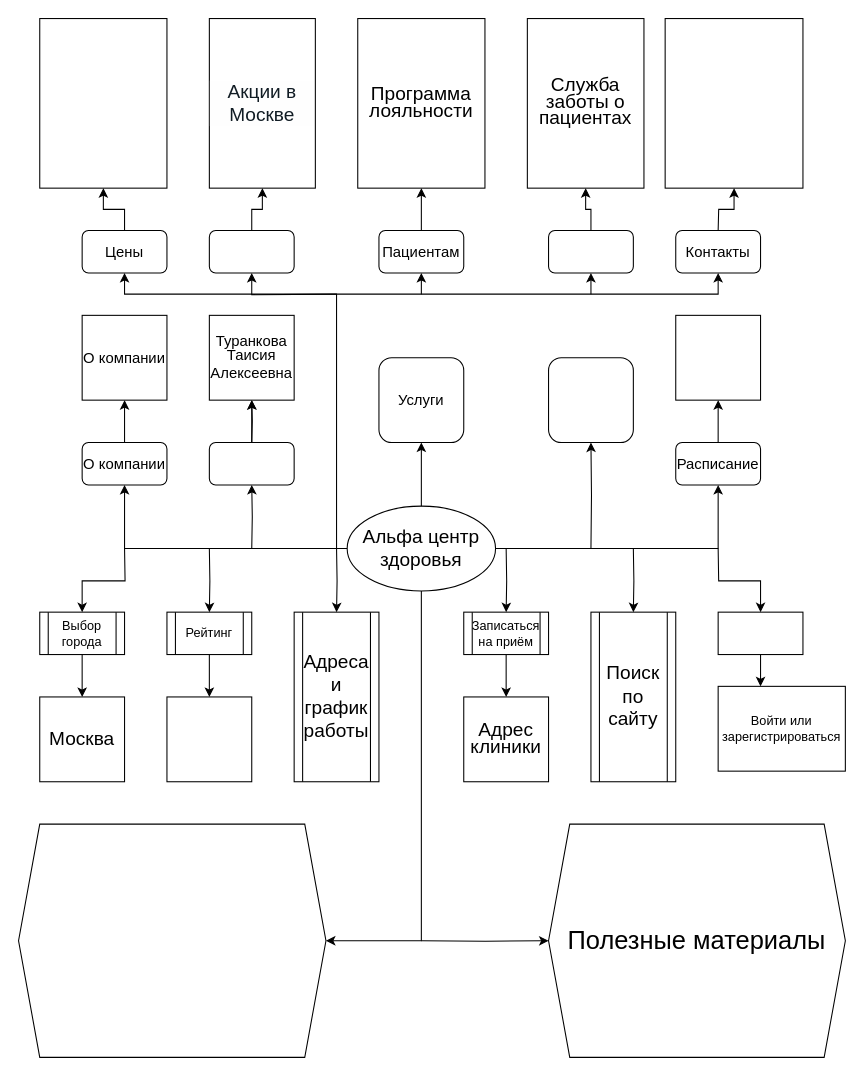
This 864x1076 diagram has some shape labels left out. Each missing label, with the centre of its shape:
Акции: (x=251, y=251)
Аллергология и иммунология - врачебные приемы: (x=103, y=102)
Врачи: (x=251, y=463)
Записаться на УЗИ: (x=718, y=357)
Клиники «Альфа-Центр Здоровья» в Москве: (x=733, y=102)
Личный кабинет: (x=760, y=633)
Направления: (x=171, y=940)
Отзывы: (x=590, y=251)
Программы: (x=590, y=400)
Яндекс Карты: (x=209, y=739)
